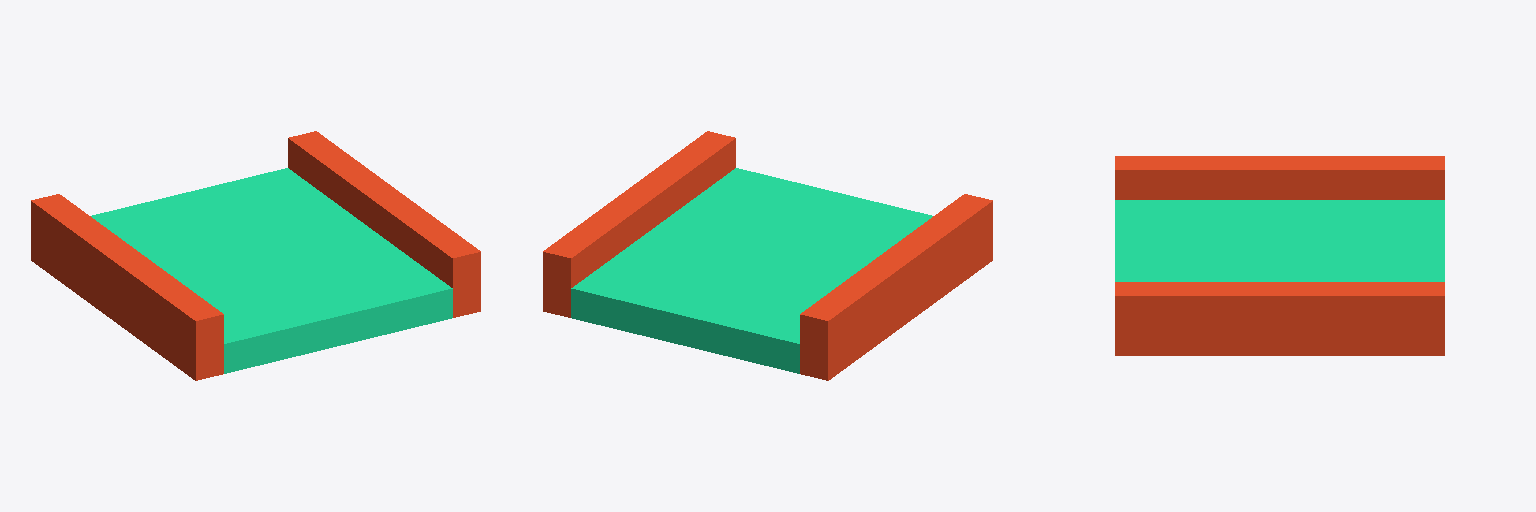
File: Gol_Track_Piece.obj
3 views of the same model, side by side, from view 1: azimuth 30°, elevation 25°; view 2: azimuth 150°, elevation 25°; view 3: azimuth 270°, elevation 25° (orthographic).
Visible parts, largest first — view 1: straight_0; view 2: straight_0; view 3: straight_0.
Part boxes in pixels (bbox=[...]): straight_0: bbox=[31, 131, 480, 380]; straight_0: bbox=[543, 131, 992, 380]; straight_0: bbox=[1115, 156, 1444, 355].
Size of the model in its own units: 1 by 0.2 by 1.